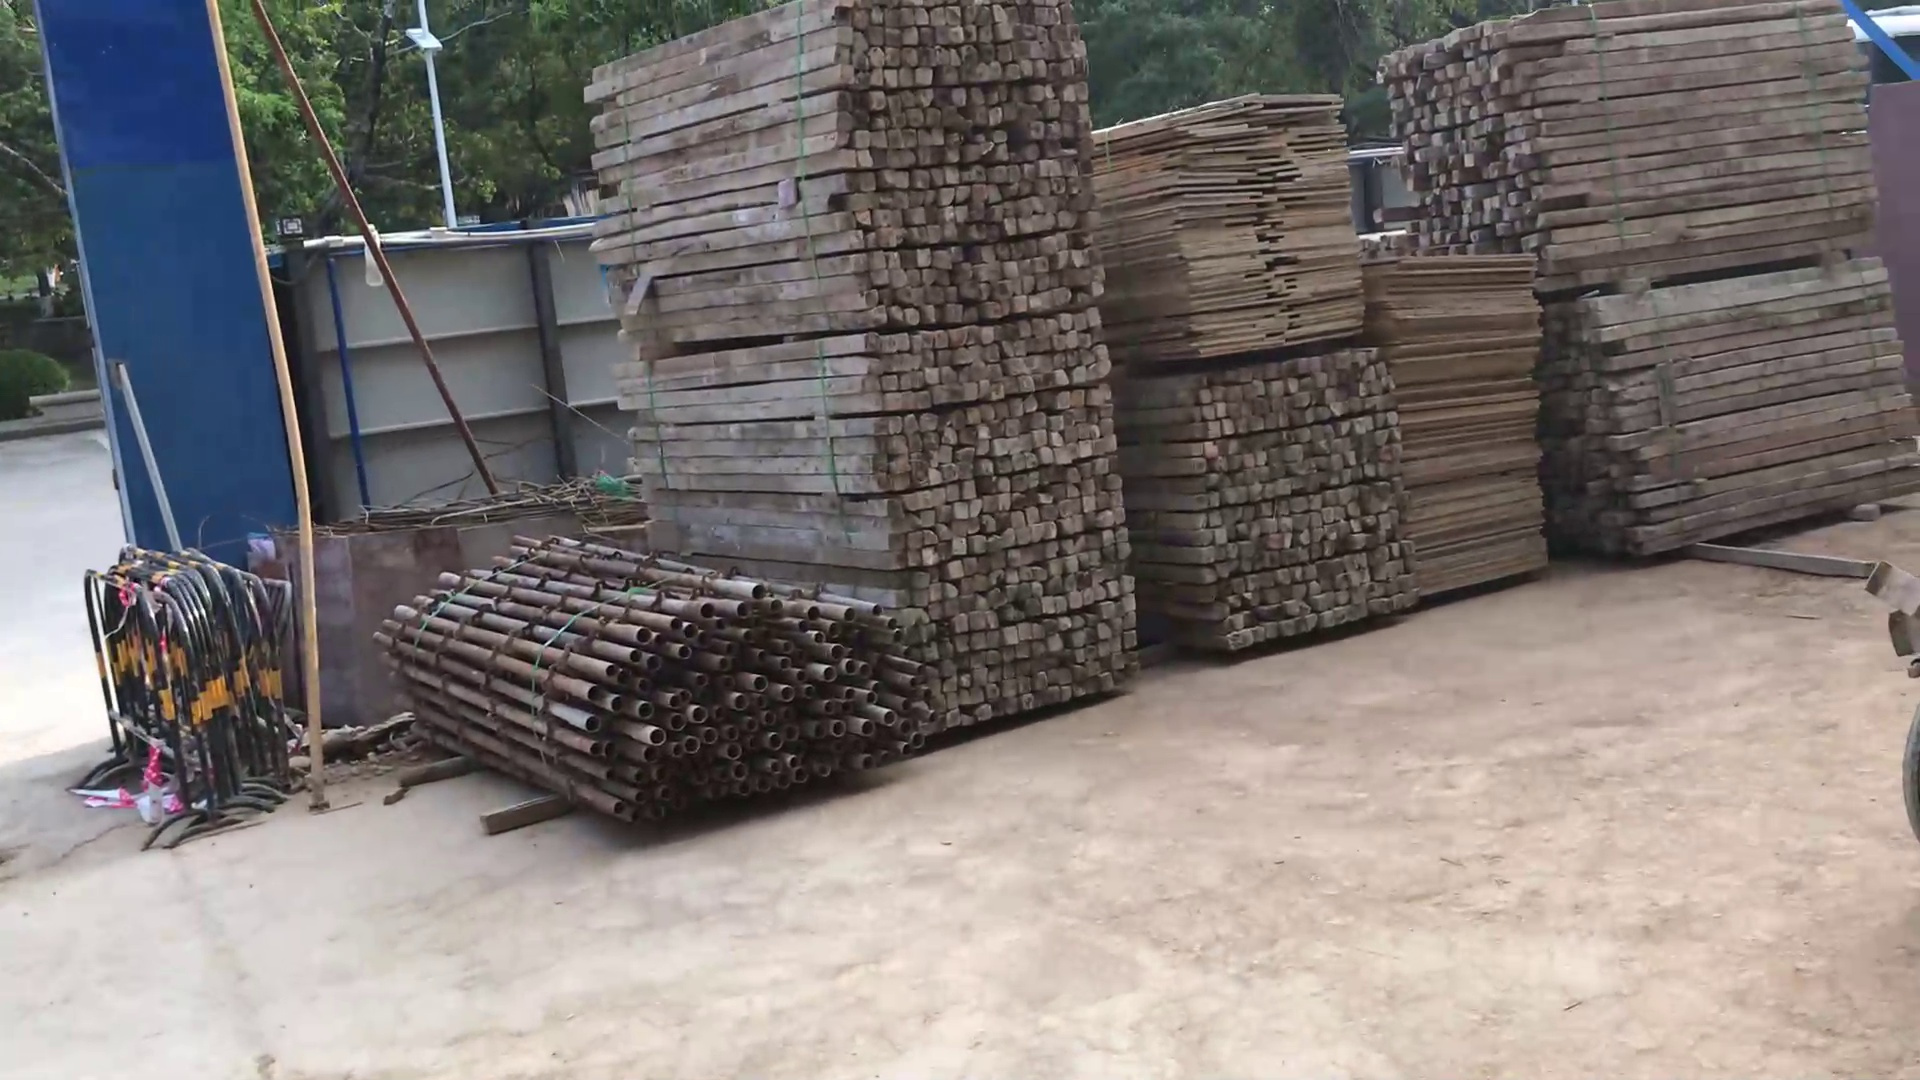board: (1092, 90, 1367, 355), (1366, 252, 1543, 607)
scaffold: (372, 529, 938, 828)
wood: (585, 1, 1143, 732), (1393, 1, 1882, 257), (1539, 258, 1920, 556), (1110, 345, 1424, 653)
